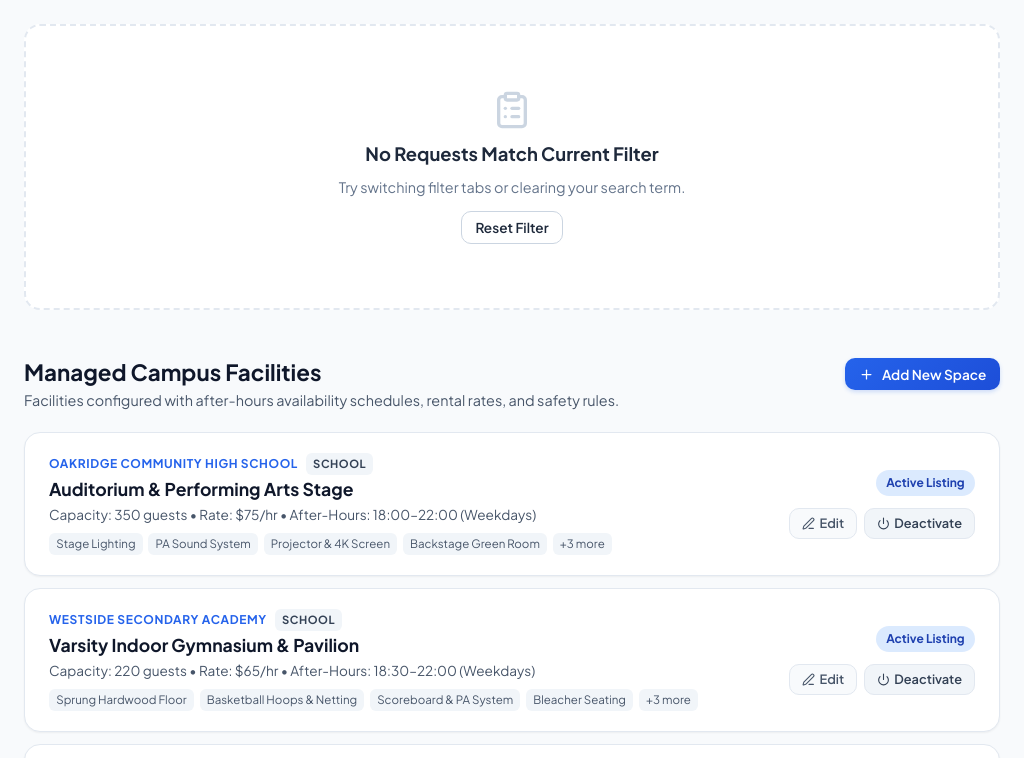
Test: Venue Listing Management (Phase 5) › Staff Dashboard Venue Management Integration › opens create modal when clicking Add New Space
This screenshot has width=1024, height=758.
(page scrolled)
Click the button with aria-label "add new campus facility" at (923, 374), box [845,358,1000,390]
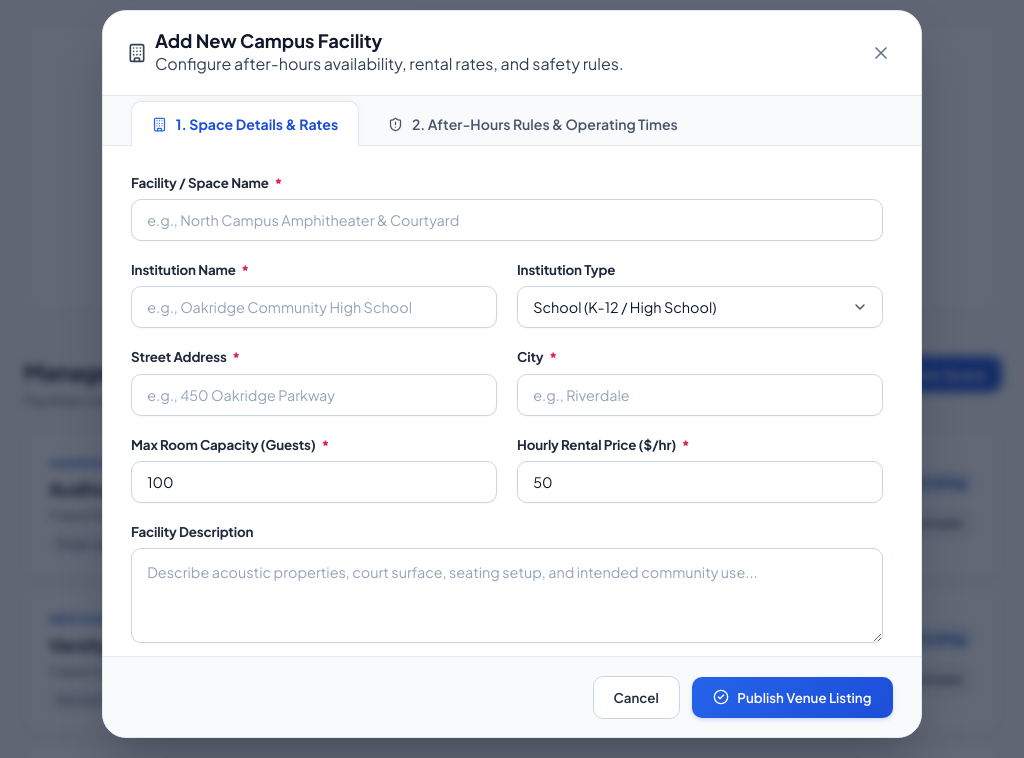
Result: the heading "Add New Campus Facility" is shown at [155,29,382,52]
